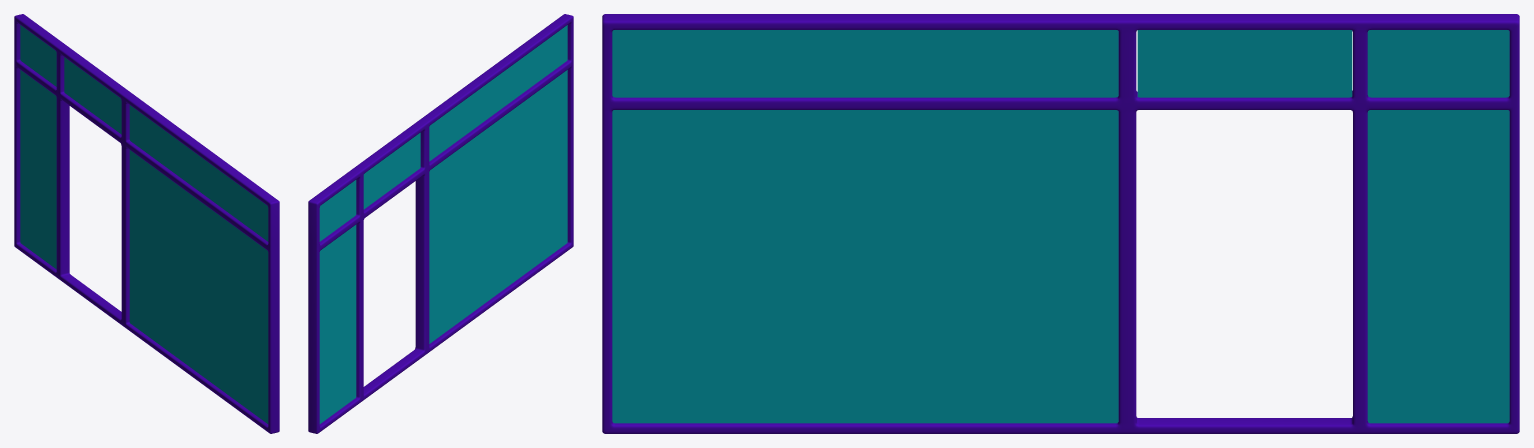
Rendered from tight_glass_wall.fbx.
The picture shows the model from 3 angles, left to right: view 1: azimuth 30°, elevation 25°; view 2: azimuth 150°, elevation 25°; view 3: azimuth 270°, elevation 25°; orthographic projection. The views are drawn at different scales.
Visible parts, largest first — view 1: Box027; view 2: Box027; view 3: Box027.
Part boxes in pixels (<box>): Box027: <box>14,14,279,433</box>; Box027: <box>308,14,573,433</box>; Box027: <box>602,14,1519,433</box>.
Size of the model in its own units: 1.78 by 39.47 by 79.44.
